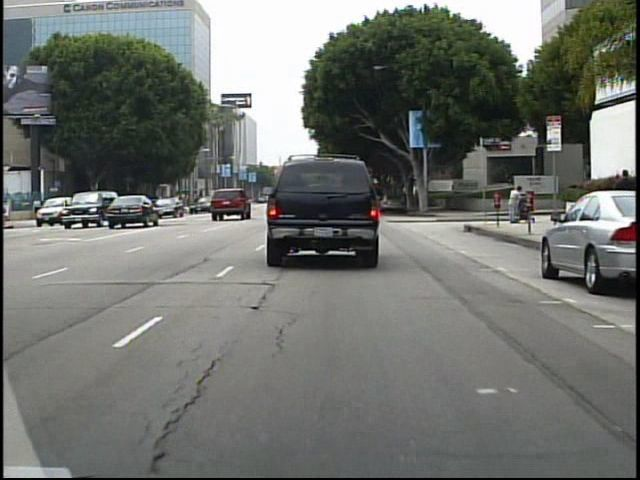person: (609, 164, 633, 234), (504, 181, 525, 228)
